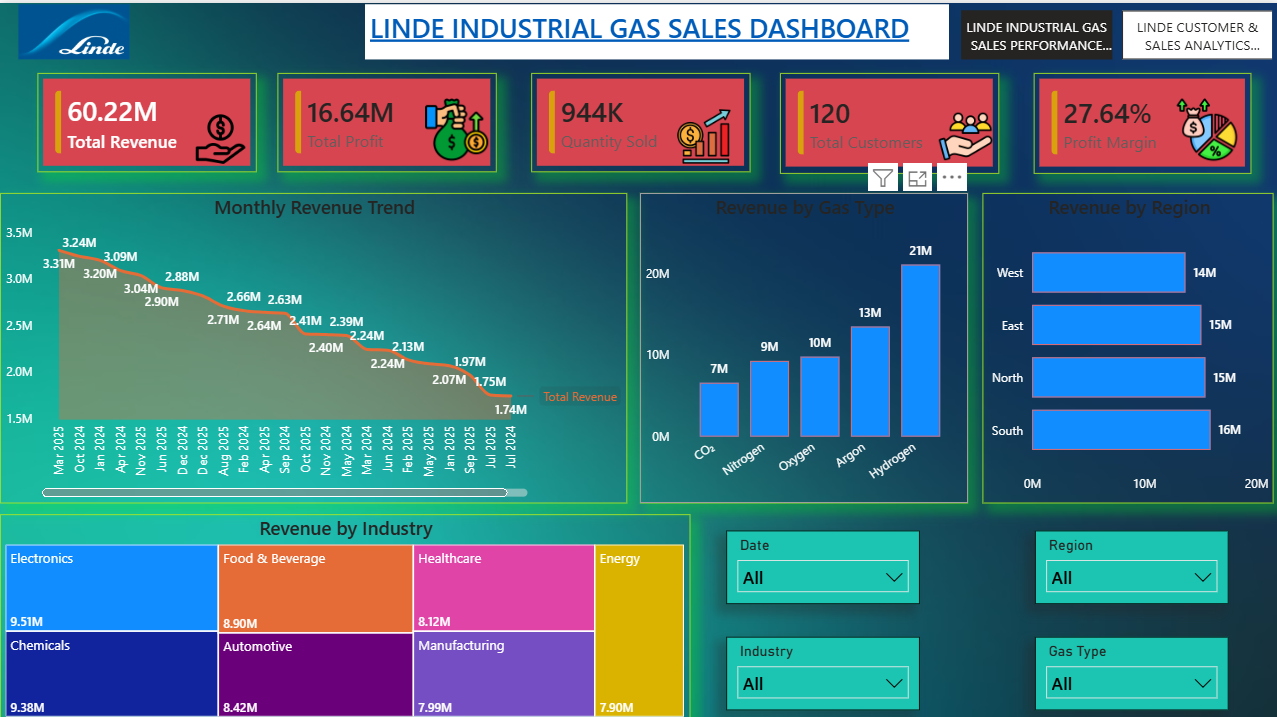

Layout of this report page (visuals, bound fields, positions):
{"tool":"powerbi","page":{"name":"LINDE INDUSTRIAL GAS SALES PERFORMANCE DASHBOARD","canvas":[1280,720],"ordinal":0},"visuals":[{"type":"textbox","box":[365,1.4,584.3,54.8],"z":0},{"type":"image","box":[0,1.5,147.7,55.6],"z":1000},{"type":"cardVisual","fields":{"Data":["Sum(Sales.Revenue)"]},"box":[38,70.2,219.4,99.5],"z":2000},{"type":"cardVisual","fields":{"Data":["Sum(Sales.Profit)"]},"box":[277.9,70.2,219.4,99.5],"z":3000},{"type":"cardVisual","fields":{"Data":["Sum(Sales.Quantity Sold)"]},"box":[530.9,70.2,219.4,99.5],"z":4000},{"type":"cardVisual","fields":{"Data":["Count(Sales.Customer Name)"]},"box":[779.5,70.2,219.4,100.9],"z":5000},{"type":"cardVisual","fields":{"Data":["Sales.Profit Margin %"]},"box":[1034,70.2,217.9,100.9],"z":6000},{"type":"lineChart","title":"Monthly Revenue Trend","fields":{"Category":["Date Table.Month Year"],"Y":["Sales.Total Revenue"]},"box":[0,190.6,627.3,310.1],"z":7000},{"type":"clusteredColumnChart","title":" Revenue by Gas Type","fields":{"Category":["Sales.Gas Type"],"Y":["Sales.Total Revenue"]},"box":[639.4,189.4,328.2,310.1],"z":8000},{"type":"clusteredBarChart","title":"Revenue by Region","fields":{"Category":["Sales.Region"],"Y":["Sales.Total Revenue"]},"box":[982,190.6,292,310.1],"z":9000},{"type":"treemap","title":"Revenue by Industry","fields":{"Group":["Sales.Industry"],"Values":["Sales.Total Revenue"]},"box":[0,511.5,690.1,208.7],"z":10000},{"type":"slicer","fields":{"Values":["Date Table.Date"]},"box":[725.7,528.1,193.3,73.6],"z":11000},{"type":"slicer","fields":{"Values":["Sales.Region"]},"box":[1034.5,528.1,193.3,73.6],"z":12000},{"type":"slicer","fields":{"Values":["Sales.Industry"]},"box":[725.7,633.4,193.3,73.6],"z":13000},{"type":"slicer","fields":{"Values":["Sales.Gas Type"]},"box":[1034.5,633.4,193.3,73.6],"z":14000},{"type":"pageNavigator","box":[960.9,7.2,313.1,49.1],"z":15000},{"type":"image","box":[184.3,111.2,73.1,49.7],"z":16000},{"type":"image","box":[416.8,95.1,80.4,62.9],"z":17000},{"type":"image","box":[656.7,106.8,95.1,54.1],"z":18000},{"type":"image","box":[918.5,106.8,93.6,54.1],"z":19000},{"type":"image","box":[1133.5,95.1,146.3,62.9],"z":20000}]}

Visuals, with their boxes in screenshot pixels (x1, y1, x2, y2), scaled from the page's 1280x720 canvas onto the 1277x717 screenshot:
textbox: (364,1,947,56)
image: (0,1,147,57)
cardVisual - Sum(Sales.Revenue): (38,70,257,169)
cardVisual - Sum(Sales.Profit): (277,70,496,169)
cardVisual - Sum(Sales.Quantity Sold): (530,70,749,169)
cardVisual - Count(Sales.Customer Name): (778,70,997,170)
cardVisual - Sales.Profit Margin %: (1032,70,1249,170)
"Monthly Revenue Trend" lineChart: (0,190,626,499)
" Revenue by Gas Type" clusteredColumnChart: (638,189,965,497)
"Revenue by Region" clusteredBarChart: (980,190,1271,499)
"Revenue by Industry" treemap: (0,509,688,716)
slicer - Date Table.Date: (724,526,917,599)
slicer - Sales.Region: (1032,526,1225,599)
slicer - Sales.Industry: (724,631,917,704)
slicer - Sales.Gas Type: (1032,631,1225,704)
pageNavigator: (959,7,1271,56)
image: (184,111,257,160)
image: (416,95,496,157)
image: (655,106,750,160)
image: (916,106,1010,160)
image: (1131,95,1276,157)
